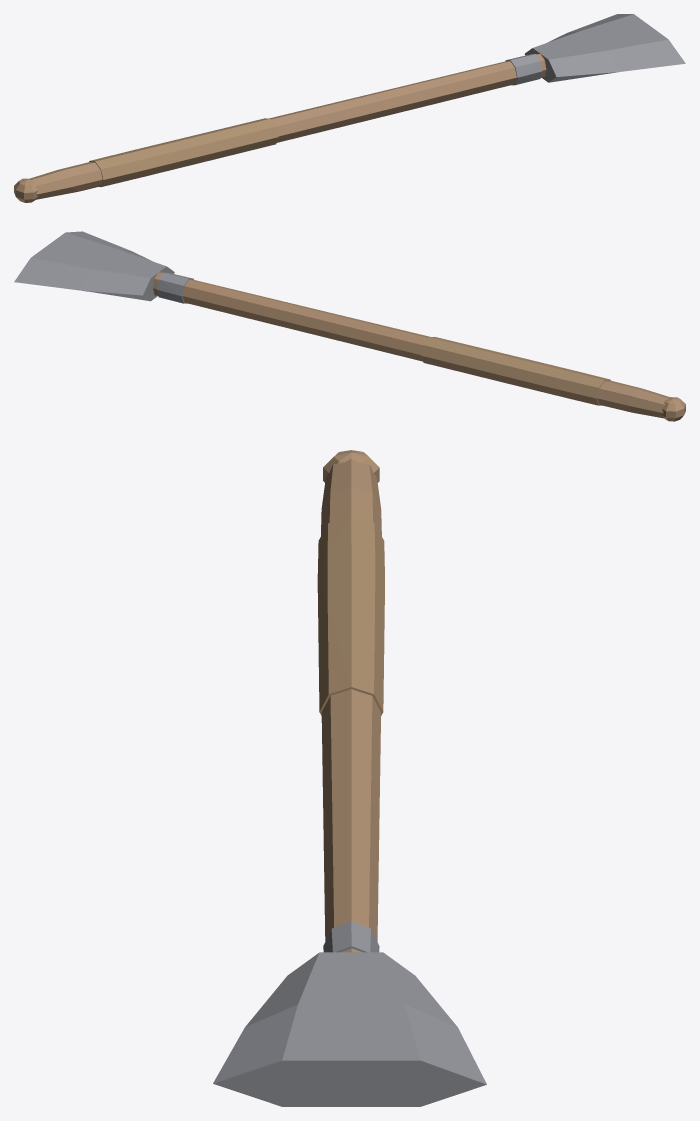
Rendered from 16-Crafting_azada.glb.
3 views of the same model, one above another, from view 1: azimuth 30°, elevation 25°; view 2: azimuth 150°, elevation 25°; view 3: azimuth 270°, elevation 25° (orthographic). The views are drawn at different scales.
Parts seen in each view (by area): view 1: SM_Azada_M_Azada_Madera, SM_Azada_M_Azada_Hierro, SM_Azada_M_Azada_Cuero; view 2: SM_Azada_M_Azada_Madera, SM_Azada_M_Azada_Hierro, SM_Azada_M_Azada_Cuero; view 3: SM_Azada_M_Azada_Hierro, SM_Azada_M_Azada_Madera, SM_Azada_M_Azada_Cuero.
Part boxes in pixels (x1,y1,x2,y2): SM_Azada_M_Azada_Madera: [14, 54, 546, 202]; SM_Azada_M_Azada_Hierro: [505, 14, 685, 85]; SM_Azada_M_Azada_Cuero: [89, 118, 278, 187]; SM_Azada_M_Azada_Madera: [153, 272, 685, 421]; SM_Azada_M_Azada_Hierro: [14, 231, 193, 303]; SM_Azada_M_Azada_Cuero: [421, 336, 610, 405]; SM_Azada_M_Azada_Hierro: [213, 921, 486, 1106]; SM_Azada_M_Azada_Madera: [321, 450, 381, 952]; SM_Azada_M_Azada_Cuero: [317, 516, 384, 715].
Size of the model in its own units: 1.38 by 0.052 by 0.2573.
